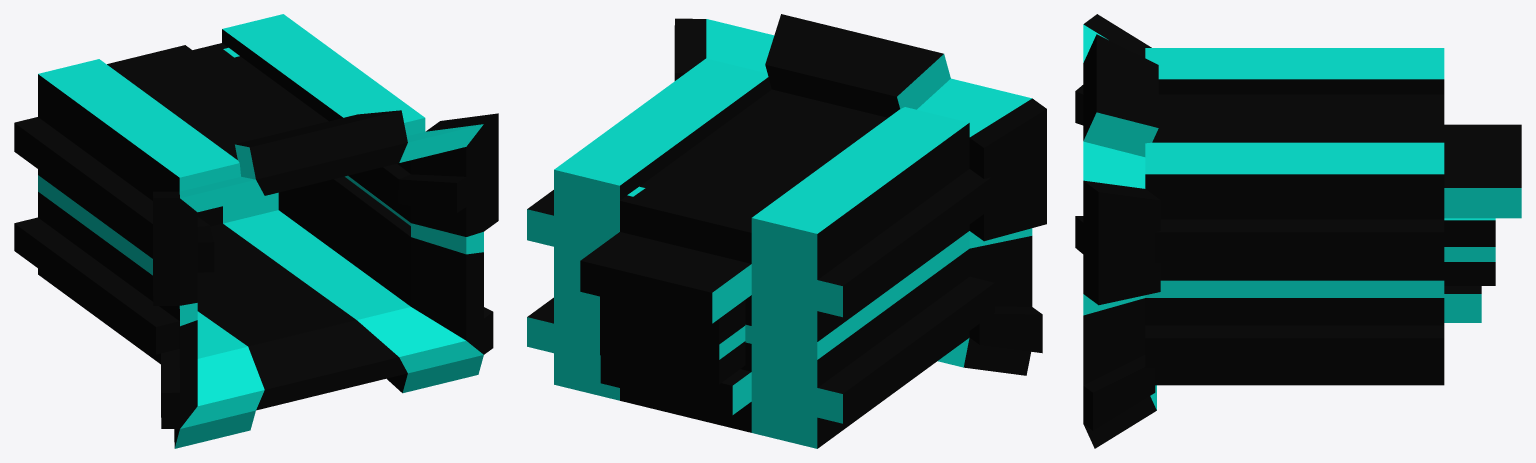
File: TELEPORT.fbx
3 renders of one model, left to right at view 1: azimuth 30°, elevation 25°; view 2: azimuth 150°, elevation 25°; view 3: azimuth 270°, elevation 25°, orthographic. The views are drawn at different scales.
Visible parts, largest first — view 1: Cube.001; view 2: Cube.001; view 3: Cube.001.
Boxes of the visible parts, x1,y1,x2,y2 form: Cube.001: (14,14,498,448); Cube.001: (527,14,1046,448); Cube.001: (1075,14,1521,448).
Size of the model in its own units: 1571 by 1224 by 1665.
